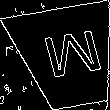M_S: (33, 28, 102, 87)
